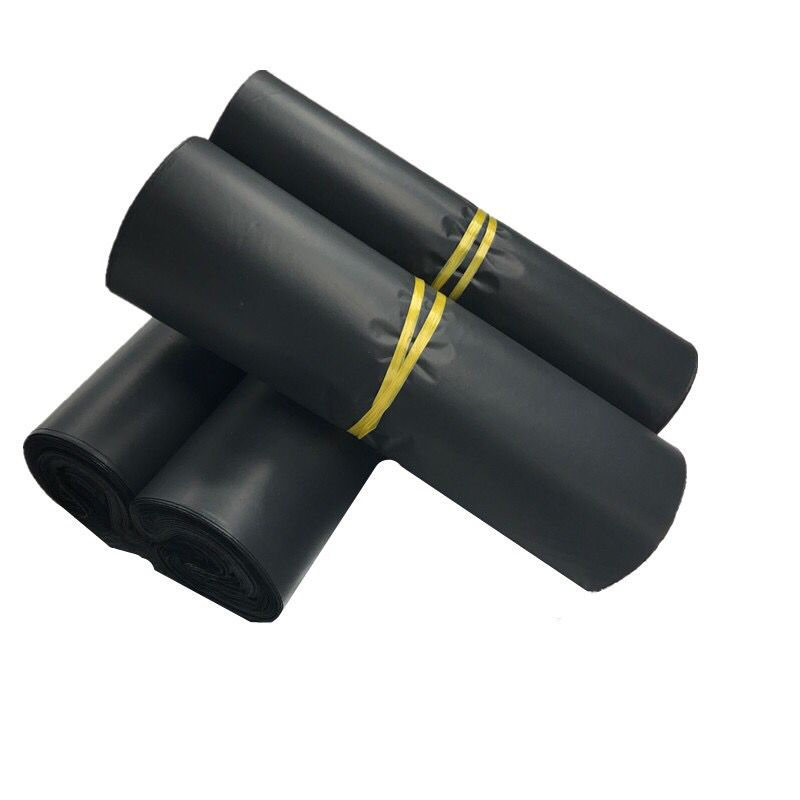塑料袋: (24, 71, 697, 621)
